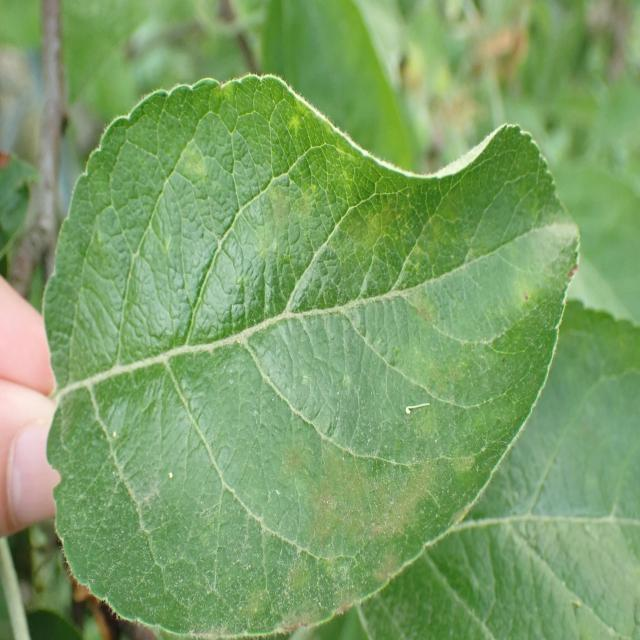scab: (56, 83, 567, 632)
